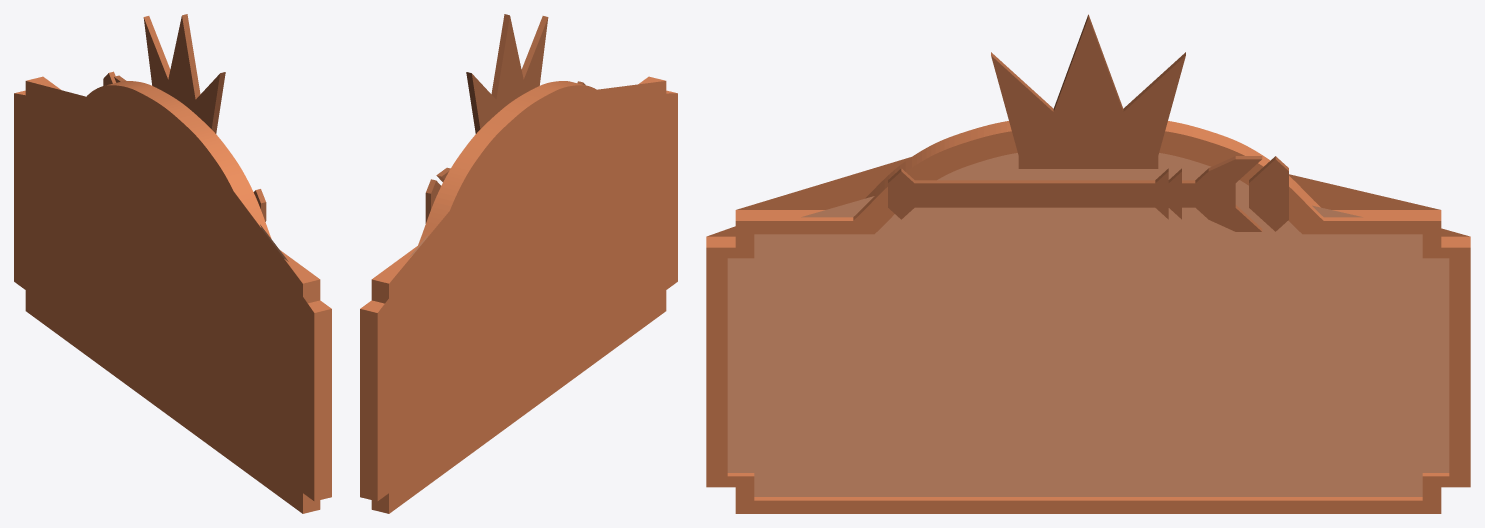
File: BasicEventSign.fbx
3 renders of one model, left to right at view 1: azimuth 30°, elevation 25°; view 2: azimuth 150°, elevation 25°; view 3: azimuth 270°, elevation 25°, orthographic. The views are drawn at different scales.
Visible parts, largest first — view 1: BézierCurve, BézierCurve.001; view 2: BézierCurve, BézierCurve.001, BézierCurve.003; view 3: BézierCurve, BézierCurve.001, BézierCurve.002, BézierCurve.003.
Part boxes in pixels (x1,y1,x2,y2): BézierCurve: (14,76,331,513); BézierCurve.001: (143,14,225,133); BézierCurve: (360,76,677,513); BézierCurve.001: (466,14,548,133); BézierCurve.003: (425,179,440,223); BézierCurve: (706,121,1470,513); BézierCurve.001: (991,14,1185,168); BézierCurve.002: (888,156,1262,231); BézierCurve.003: (1249,156,1288,231).
Size of the model in its own units: 25.56 by 413 by 572.
